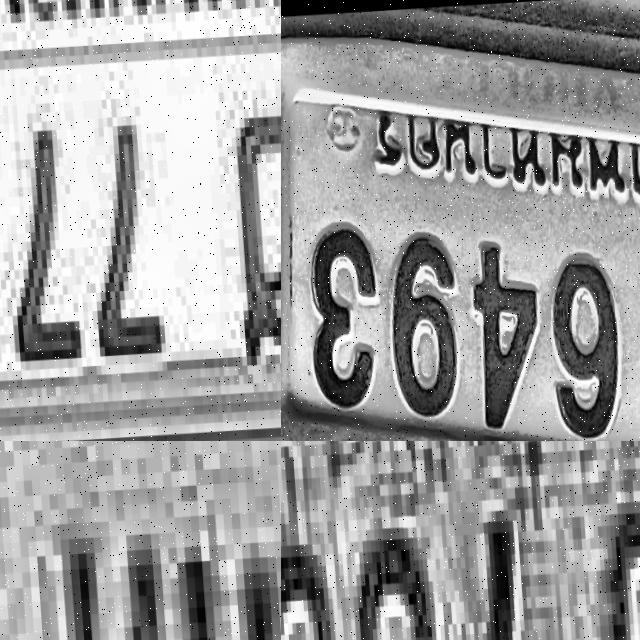license-plate: (281, 0, 640, 441), (0, 0, 281, 441), (281, 441, 640, 640), (0, 441, 281, 640)
